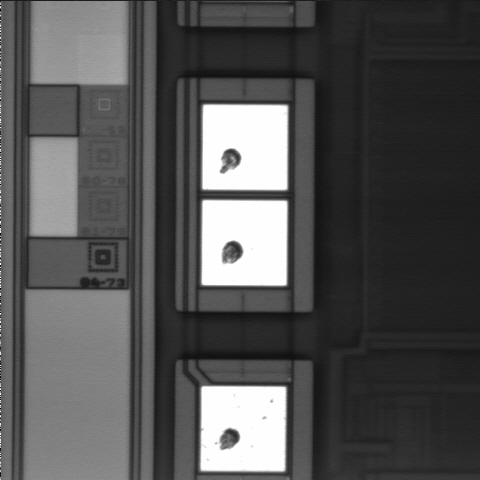pad: (202, 105, 288, 190), (202, 200, 287, 286), (201, 386, 286, 471)
